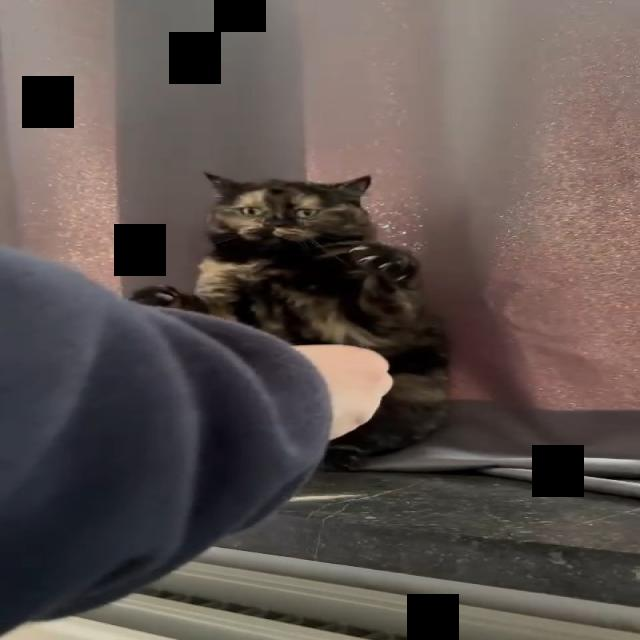authorized: (130, 171, 453, 470)
